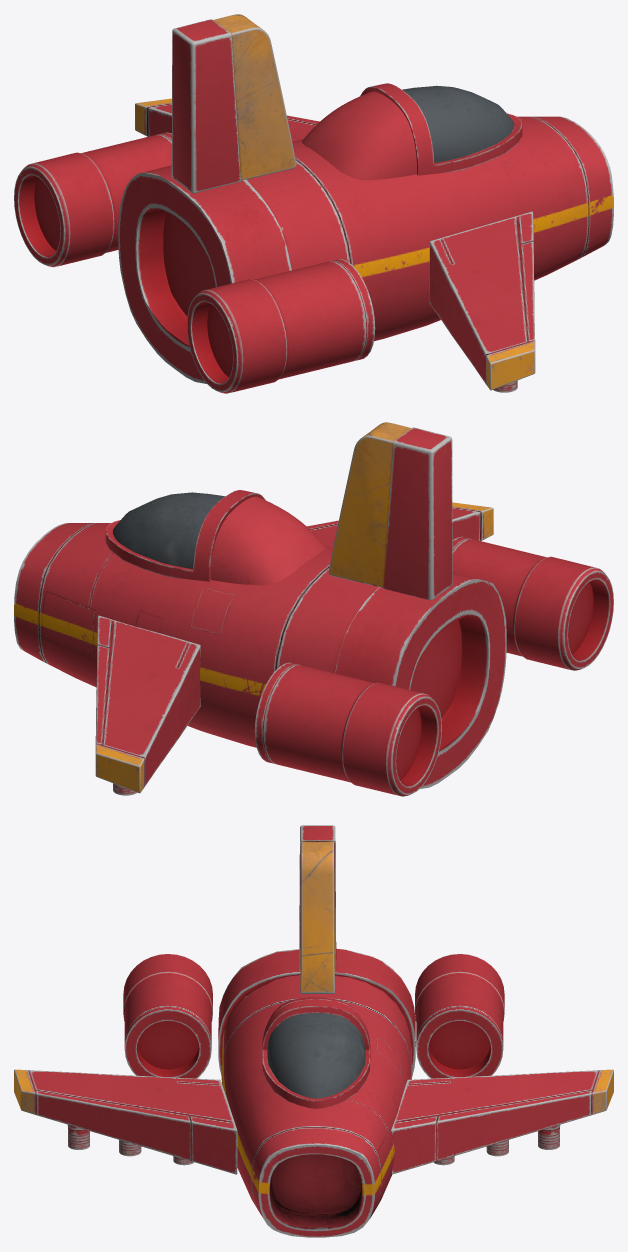
Rendered from Rocket.glb.
3 views of the same model, one above another, from view 1: azimuth 30°, elevation 25°; view 2: azimuth 150°, elevation 25°; view 3: azimuth 270°, elevation 25° (orthographic). The views are drawn at different scales.
Visible parts, largest first — view 1: Cylinder.009; view 2: Cylinder.009; view 3: Cylinder.009.
Boxes of the visible parts, x1,y1,x2,y2 form: Cylinder.009: (14, 14, 613, 393); Cylinder.009: (14, 422, 613, 796); Cylinder.009: (14, 825, 613, 1237).
Bounding box in the file's own units: 2.7 × 1.89 × 3.65.
Materials: 1 (1 with a texture image).
